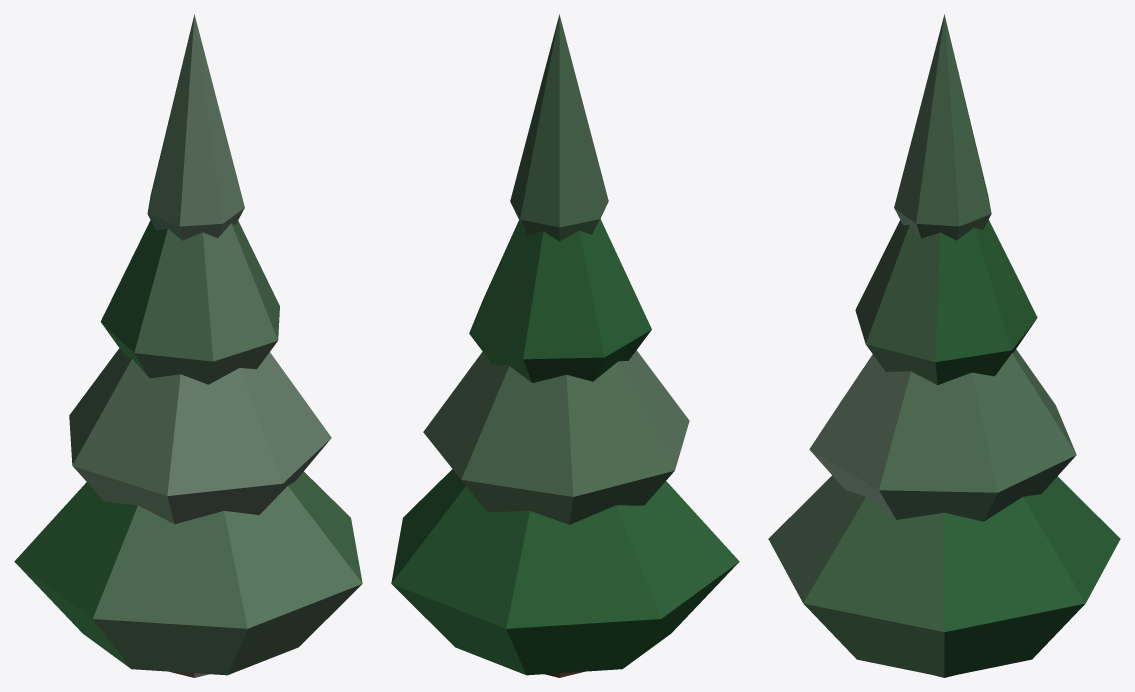
The model's file is conifer_spire_m.glb.
3 renders of one model, left to right at view 1: azimuth 30°, elevation 25°; view 2: azimuth 150°, elevation 25°; view 3: azimuth 270°, elevation 25°, orthographic.
Parts seen in each view (by area): view 1: conifer_spire_m; view 2: conifer_spire_m; view 3: conifer_spire_m.
Part boxes in pixels (x1,y1,x2,y2): conifer_spire_m: [14, 14, 362, 677]; conifer_spire_m: [391, 14, 739, 677]; conifer_spire_m: [768, 14, 1120, 677].
Size of the model in its own units: 2.24 by 4.69 by 2.3.
